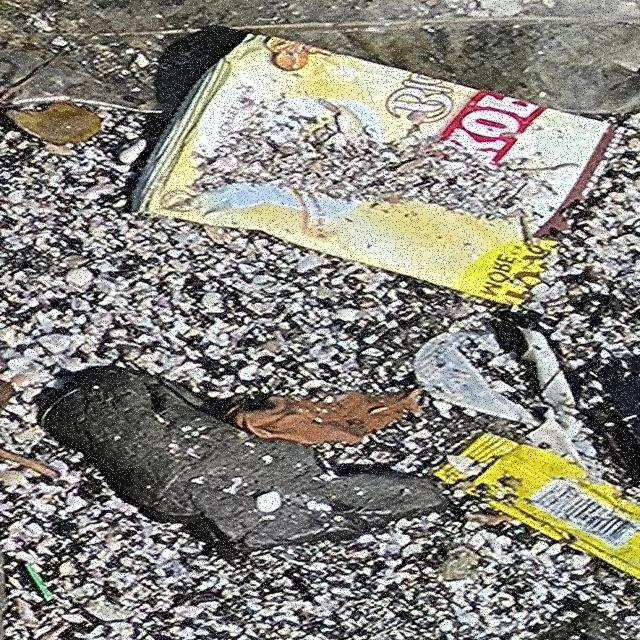plastic_waste: (128, 32, 631, 308), (429, 431, 640, 581)
